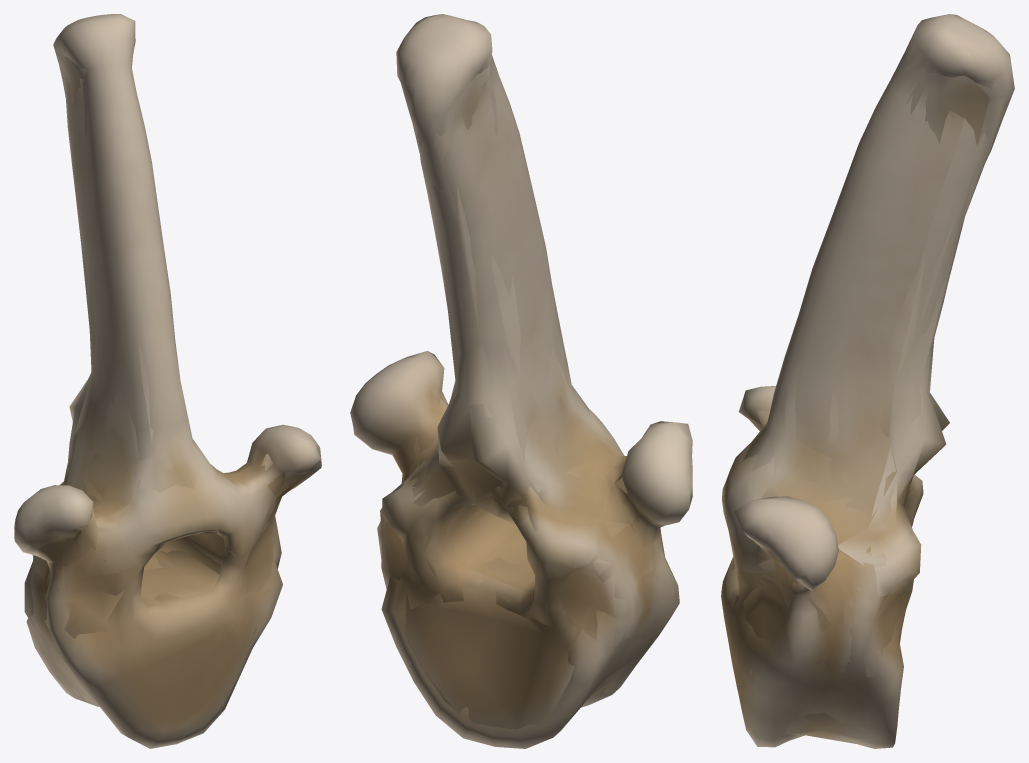
Rendered from vertebrae thoracicae 08.fbx.
3 views of the same model, side by side, from view 1: azimuth 30°, elevation 25°; view 2: azimuth 150°, elevation 25°; view 3: azimuth 270°, elevation 25° (orthographic). The views are drawn at different scales.
Visible parts, largest first — view 1: vertebrae thoracicae 08, vertebrae thoracicae 08 low; view 2: vertebrae thoracicae 08, vertebrae thoracicae 08 low; view 3: vertebrae thoracicae 08, vertebrae thoracicae 08 low.
Part boxes in pixels (box(x1,y1,x2,y2)): vertebrae thoracicae 08: box(14, 14, 321, 748); vertebrae thoracicae 08 low: box(26, 34, 303, 704); vertebrae thoracicae 08: box(350, 14, 692, 748); vertebrae thoracicae 08 low: box(380, 62, 662, 729); vertebrae thoracicae 08: box(721, 14, 1014, 748); vertebrae thoracicae 08 low: box(732, 65, 1005, 743).
Bounding box in the file's own units: 7.94 × 16.68 × 6.13.
Materials: 1 (1 with a texture image).
